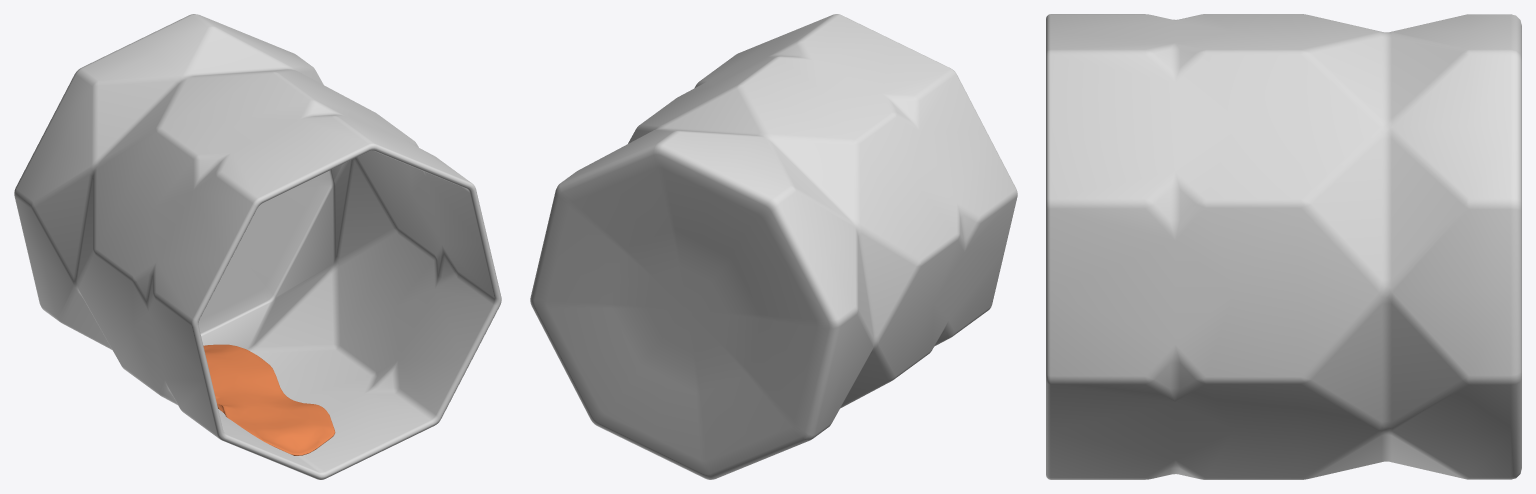
Rendered from COPO_UISQUE.fbx.
The picture shows the model from 3 angles, left to right: view 1: azimuth 30°, elevation 25°; view 2: azimuth 150°, elevation 25°; view 3: azimuth 270°, elevation 25°; orthographic projection. The views are drawn at different scales.
Parts seen in each view (by area): view 1: Copo___Evidencia_01, Cube; view 2: Copo___Evidencia_01; view 3: Copo___Evidencia_01.
Part boxes in pixels (left/top/right/bottom): Copo___Evidencia_01: left=14, top=14, right=501, bottom=479; Cube: left=203, top=344, right=335, bottom=455; Copo___Evidencia_01: left=530, top=14, right=1017, bottom=479; Copo___Evidencia_01: left=1046, top=14, right=1521, bottom=479.
Size of the model in its own units: 9.83 by 9.83 by 10.
